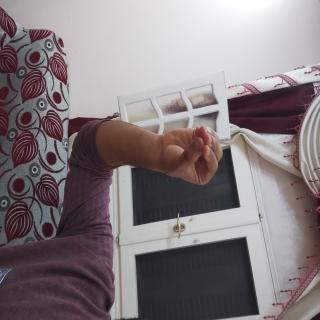HA: (84, 124, 143, 236)
